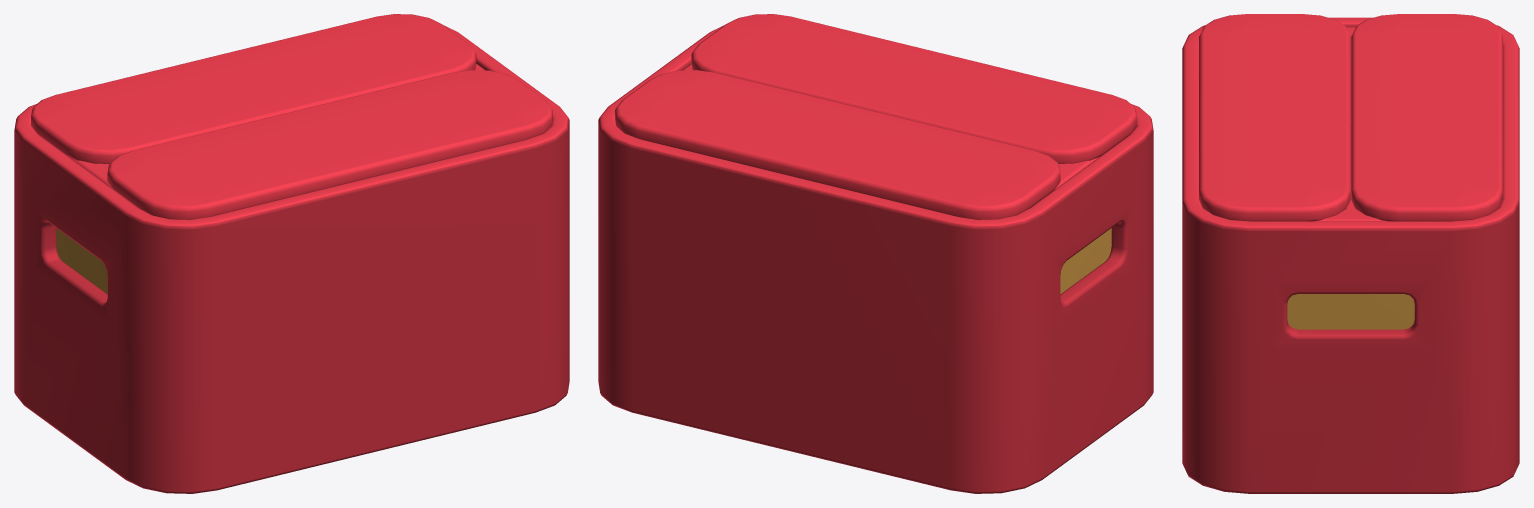
3 views of the same model, side by side, from view 1: azimuth 30°, elevation 25°; view 2: azimuth 150°, elevation 25°; view 3: azimuth 270°, elevation 25° (orthographic).
Visible parts, largest first — view 1: box6_color, top1_R2, top1_L2, box6_inner; view 2: box6_color, top1_L2, top1_R2, box6_inner; view 3: box6_color, top1_L2, top1_R2, box6_inner, top2_L2.
Part boxes in pixels (left/top/right/bottom): box6_color: left=14, top=25, right=569, bottom=493; top1_R2: left=107, top=70, right=552, bottom=219; top1_L2: left=31, top=14, right=476, bottom=163; box6_inner: left=56, top=228, right=107, bottom=293; box6_color: left=598, top=25, right=1153, bottom=493; top1_L2: left=615, top=70, right=1060, bottom=219; top1_R2: left=691, top=14, right=1136, bottom=163; box6_inner: left=1060, top=228, right=1111, bottom=293; box6_color: left=1182, top=17, right=1519, bottom=493; top1_L2: left=1351, top=14, right=1502, bottom=221; top1_R2: left=1199, top=14, right=1350, bottom=221; box6_inner: left=1287, top=294, right=1414, bottom=329; top2_L2: left=1315, top=125, right=1386, bottom=221.
Size of the model in its own units: 15.66 by 9.65 by 10.56.
